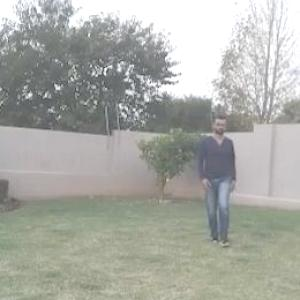follow: (196, 114, 238, 246)
